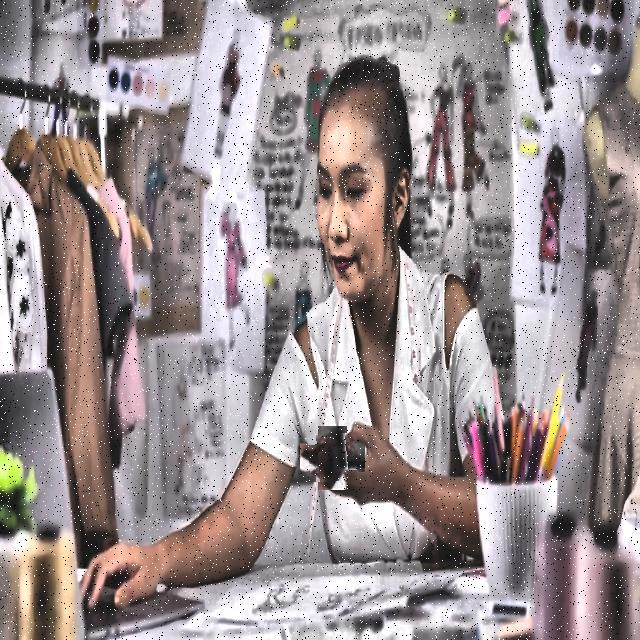Phone: (308, 433, 357, 482)
